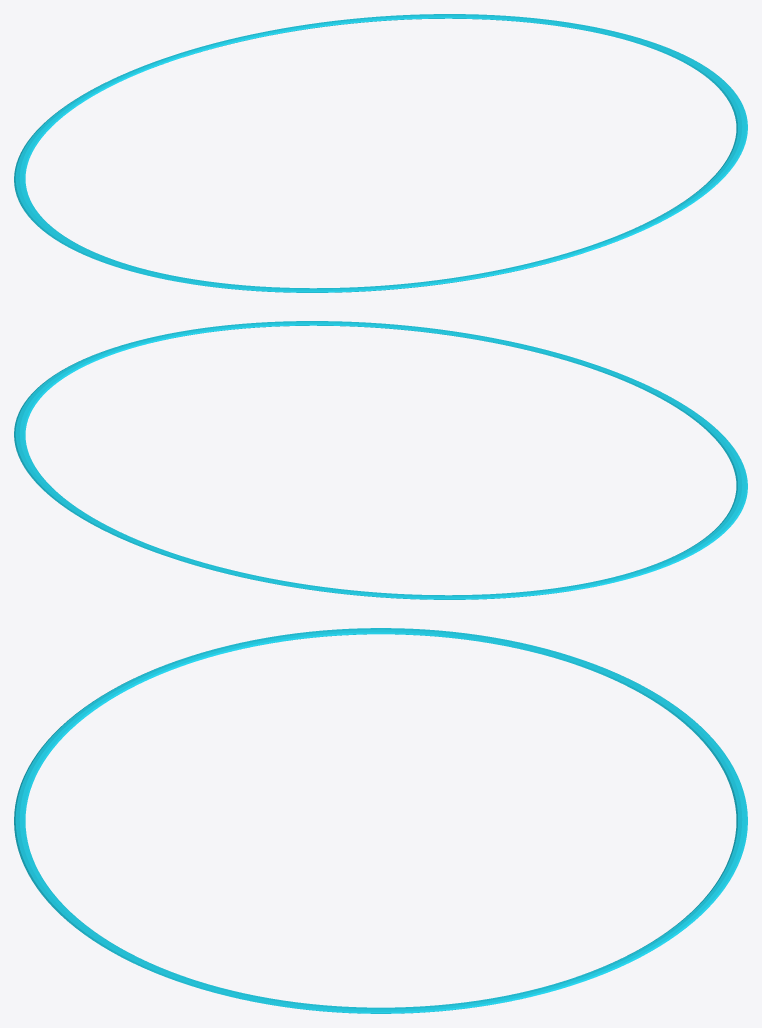
Rendered from ring_cyan.glb.
3 views of the same model, one above another, from view 1: azimuth 30°, elevation 25°; view 2: azimuth 150°, elevation 25°; view 3: azimuth 270°, elevation 25° (orthographic). The views are drawn at different scales.
Visible parts, largest first — view 1: world; view 2: world; view 3: world.
Part boxes in pixels (box(x1,y1,x2,y2)): world: box(14, 14, 747, 292); world: box(14, 321, 747, 599); world: box(14, 628, 747, 1013).
Size of the model in its own units: 9.35 by 0.032 by 7.52.
